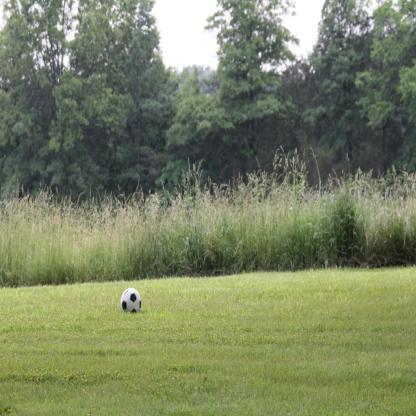Ball: (121, 288, 142, 312)
